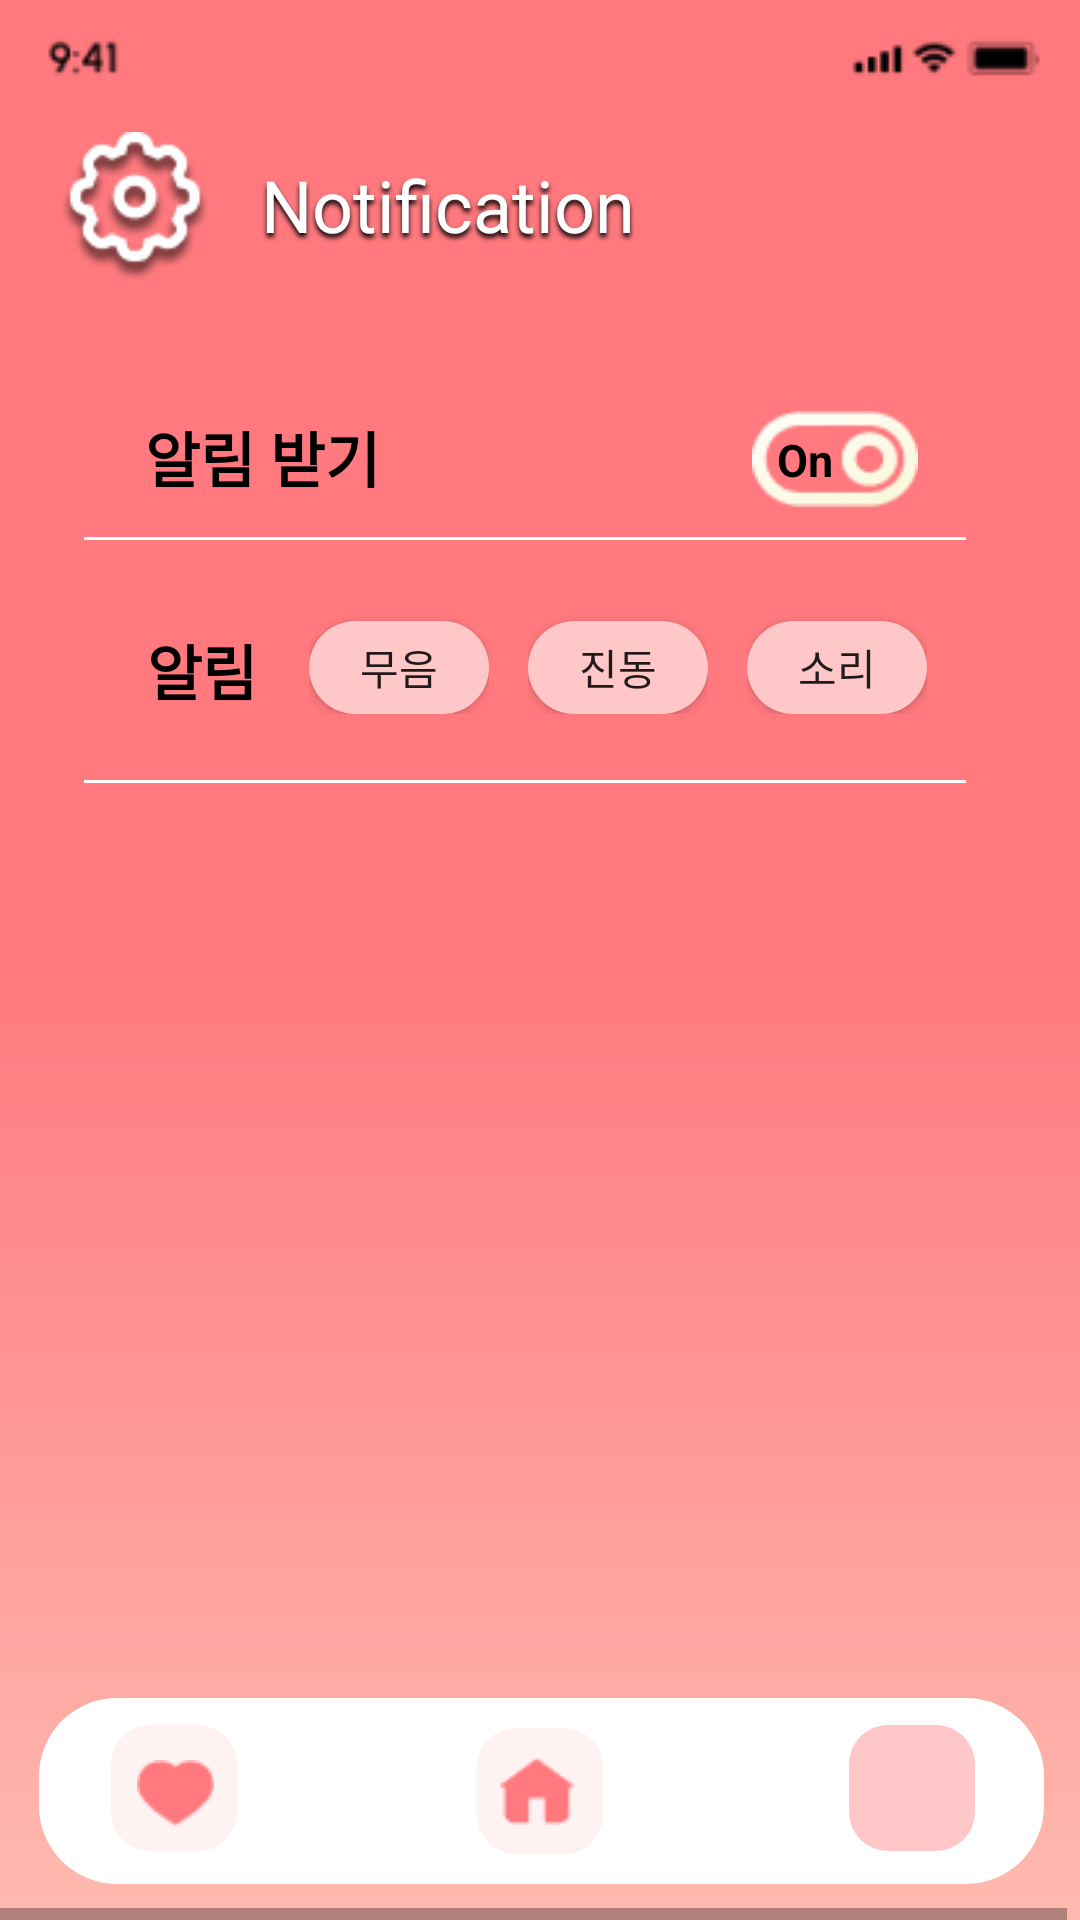

Screen size 1080px×1920px. Icon name, then its center in pixels as (x=x, y=y):
heart ek: (x=175, y=1793)
home ek: (x=537, y=1792)
settingicon: (x=135, y=204)
